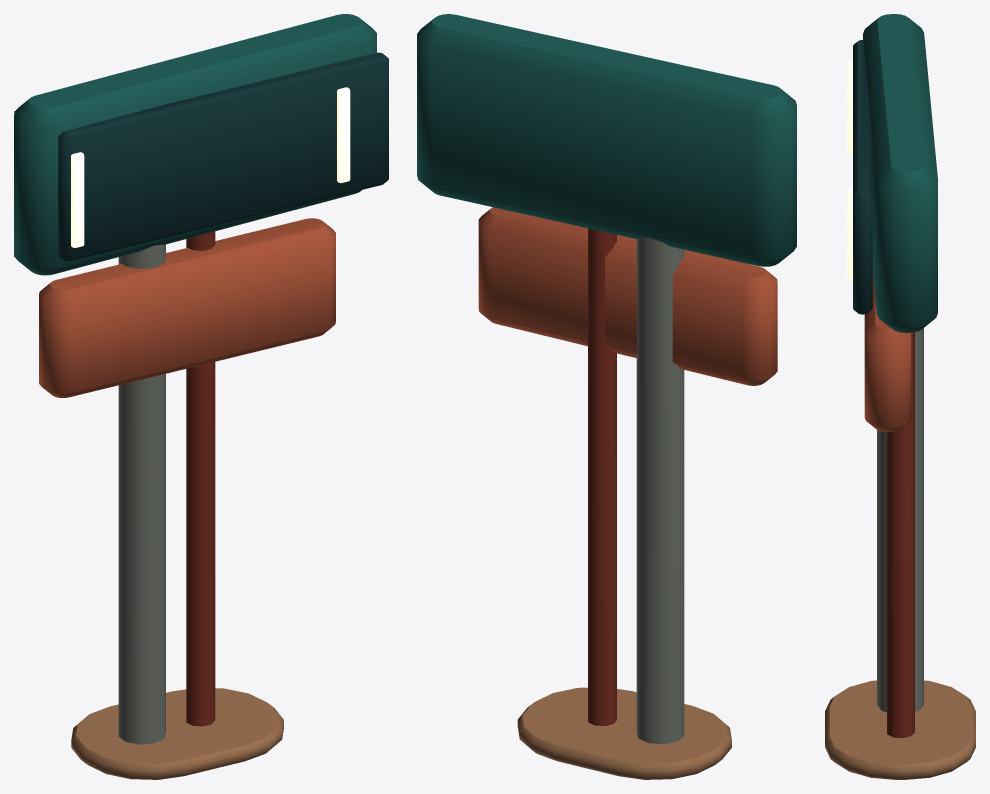
Rendered from pylon.glb.
3 views of the same model, side by side, from view 1: azimuth 30°, elevation 25°; view 2: azimuth 150°, elevation 25°; view 3: azimuth 270°, elevation 25° (orthographic). The views are drawn at different scales.
Visible parts, largest first — view 1: Pylon; view 2: Pylon; view 3: Pylon.
Part boxes in pixels (x1,y1,x2,y2): Pylon: (14, 14, 388, 779); Pylon: (417, 14, 796, 779); Pylon: (825, 14, 975, 779).
Bounding box in the file's own units: 2.24 × 4.01 × 0.84.
